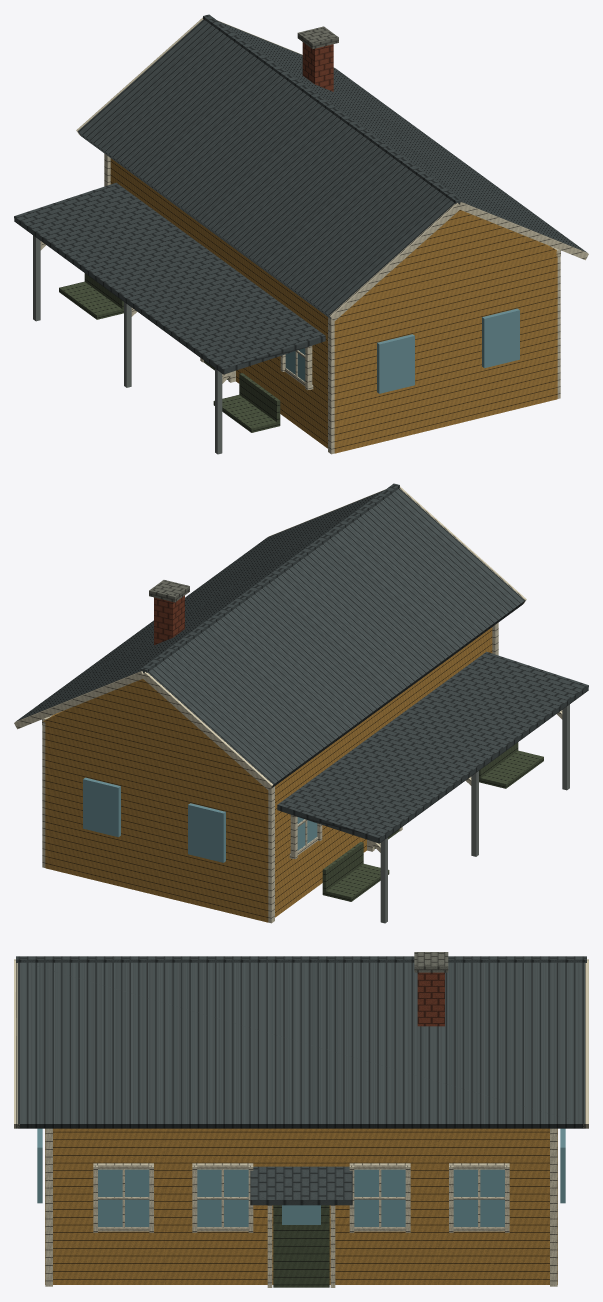
Rendered from norway-station_lod0.glb.
3 views of the same model, one above another, from view 1: azimuth 30°, elevation 25°; view 2: azimuth 150°, elevation 25°; view 3: azimuth 270°, elevation 25° (orthographic). The views are drawn at different scales.
Visible parts, largest first — view 1: RF_Station_Roof-1, RF_Station_Body, RF_Station_Canopy, RF_Station_Roof1, RF_Station_Gable.001, RF_Station_Ridge, RF_Station_EndWindow.001, RF_Station_EndWindow.002, RF_Station_Vergeband.001, RF_Station_Bench, RF_Station_Chimney, RF_Station_Bench.001 (+8 smaller); view 2: RF_Station_Roof-1, RF_Station_Body, RF_Station_Canopy, RF_Station_Roof1, RF_Station_Gable, RF_Station_Ridge, RF_Station_EndWindow.003, RF_Station_EndWindow, RF_Station_Vergeband.002, RF_Station_Bench.001, RF_Station_Chimney, RF_Station_Bench (+8 smaller); view 3: RF_Station_Roof1, RF_Station_Body, RF_Station_PublicAwning, RF_Station_Door, RF_Station_Ridge, RF_Station_Window.006, RF_Station_Window.007, RF_Station_Window.005, RF_Station_Window, RF_Station_Chimney, RF_Station_Corner.003, RF_Station_Corner (+8 smaller).
Boxes of the visible parts, <box> form: RF_Station_Roof-1: <box>78,19,454,318</box>; RF_Station_Body: <box>110,158,557,453</box>; RF_Station_Canopy: <box>14,182,325,374</box>; RF_Station_Roof1: <box>218,21,586,252</box>; RF_Station_Gable.001: <box>360,210,556,298</box>; RF_Station_Ridge: <box>203,14,462,204</box>; RF_Station_EndWindow.001: <box>377,334,414,393</box>; RF_Station_EndWindow.002: <box>482,308,519,368</box>; RF_Station_Vergeband.001: <box>329,203,461,321</box>; RF_Station_Bench: <box>59,281,123,319</box>; RF_Station_Chimney: <box>302,42,333,91</box>; RF_Station_Bench.001: <box>213,395,280,432</box>; RF_Station_Roof-1: <box>148,488,524,787</box>; RF_Station_Body: <box>45,627,492,922</box>; RF_Station_Canopy: <box>277,651,588,843</box>; RF_Station_Roof1: <box>16,490,384,721</box>; RF_Station_Gable: <box>43,679,246,771</box>; RF_Station_Ridge: <box>140,483,399,673</box>; RF_Station_EndWindow.003: <box>188,803,225,862</box>; RF_Station_EndWindow: <box>83,777,120,837</box>; RF_Station_Vergeband.002: <box>141,672,273,790</box>; RF_Station_Bench.001: <box>479,750,543,788</box>; RF_Station_Chimney: <box>154,595,184,645</box>; RF_Station_Bench: <box>322,864,389,901</box>; RF_Station_Roof1: <box>17,962,585,1128</box>; RF_Station_Body: <box>45,1128,557,1284</box>; RF_Station_PublicAwning: <box>250,1166,352,1205</box>; RF_Station_Door: <box>273,1205,329,1287</box>; RF_Station_Ridge: <box>16,956,586,962</box>; RF_Station_Window.006: <box>197,1169,248,1226</box>; RF_Station_Window.007: <box>354,1169,405,1226</box>; RF_Station_Window.005: <box>98,1169,149,1226</box>; RF_Station_Window: <box>453,1169,504,1226</box>; RF_Station_Chimney: <box>417,972,444,1026</box>; RF_Station_Corner.003: <box>45,1128,52,1286</box>; RF_Station_Corner: <box>550,1128,557,1286</box>.
Bounding box in the file's own units: 14.23 × 9.3 × 16.82.
Materials: 8 (6 with a texture image).
